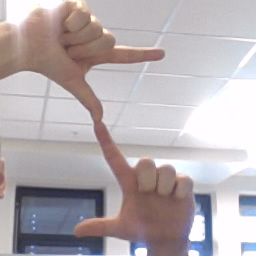Z: (7, 1, 199, 245)
